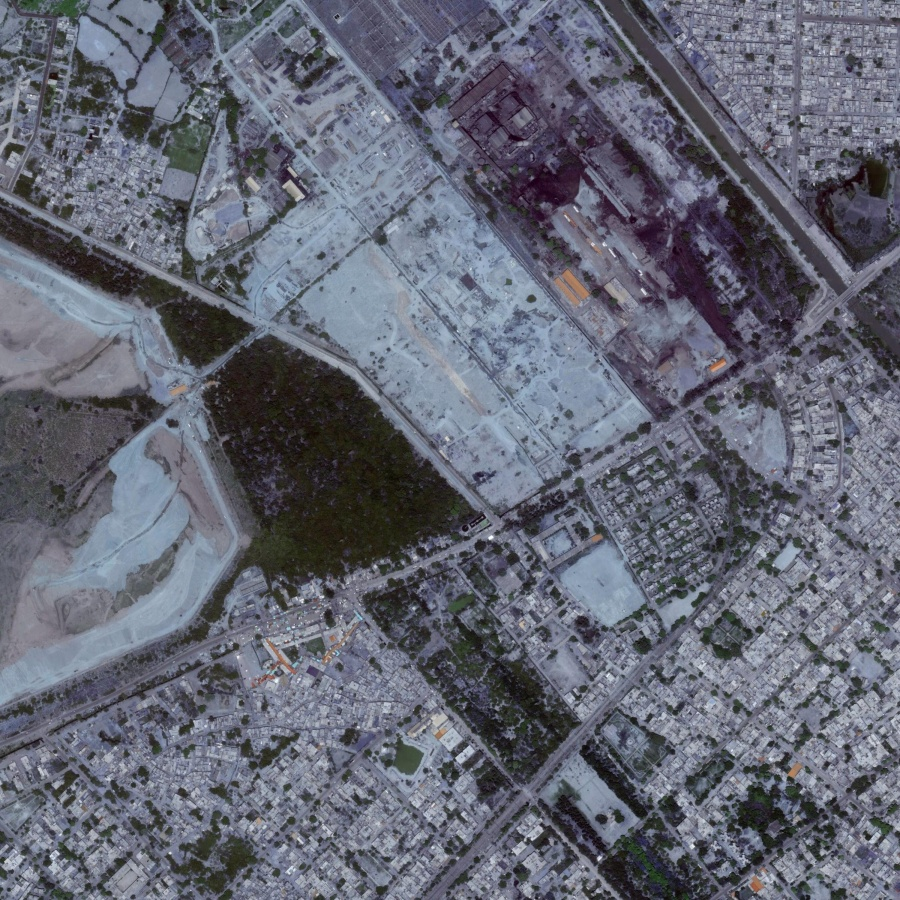PowerPlant: (449, 56, 748, 379)
